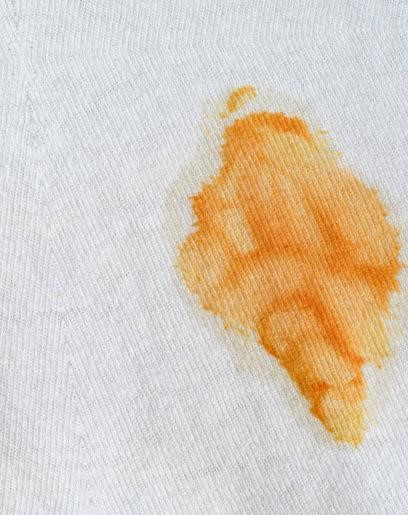stain: (174, 81, 404, 460)
